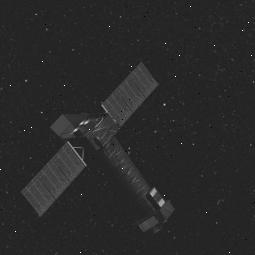xmm_newton: (48, 93, 192, 249)
